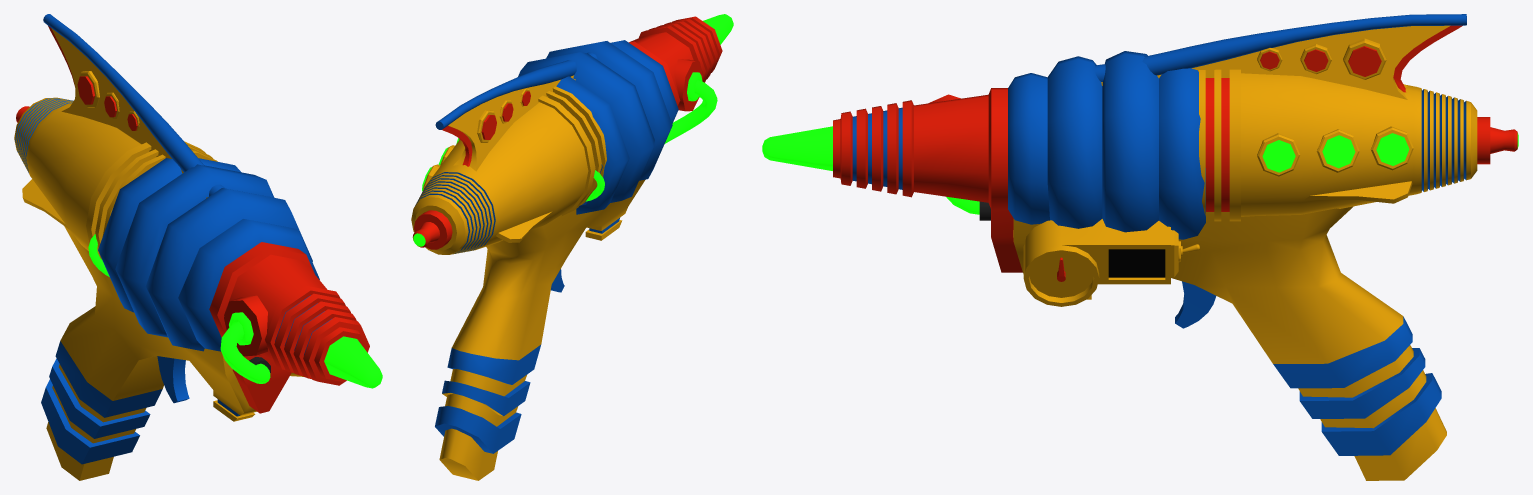
The model's file is Raygun.fbx.
3 renders of one model, left to right at view 1: azimuth 30°, elevation 25°; view 2: azimuth 150°, elevation 25°; view 3: azimuth 270°, elevation 25°, orthographic. The views are drawn at different scales.
Parts seen in each view (by area): view 1: Front, Handle, Back, FinTop, Fin, MainTube, FinTopButton, Bottom Fins; view 2: Handle, Back, Front, Fin, FinTop, MainTube, FinTopButton, Bottom Fins; view 3: Front, Handle, Back, Gauge, Fin, FinTop, FinTopButton, Bottom Fins.
Part boxes in pixels (x1,y1,x2,y2): Front: [98, 158, 382, 388]; Handle: [41, 226, 291, 480]; Back: [14, 97, 217, 259]; FinTop: [43, 14, 224, 196]; Fin: [48, 26, 207, 198]; MainTube: [220, 321, 270, 383]; FinTopButton: [77, 71, 139, 130]; Bottom Fins: [22, 179, 69, 229]; Handle: [435, 179, 645, 480]; Back: [411, 86, 606, 254]; Front: [518, 14, 733, 214]; Fin: [442, 75, 575, 171]; FinTop: [435, 52, 597, 129]; MainTube: [664, 80, 717, 143]; FinTopButton: [477, 88, 530, 142]; Bottom Fins: [496, 211, 552, 242]; Front: [762, 51, 1205, 239]; Handle: [991, 206, 1446, 480]; Back: [1199, 69, 1518, 221]; Gauge: [1023, 219, 1199, 306]; Fin: [1101, 25, 1462, 99]; FinTop: [1094, 14, 1466, 81]; FinTopButton: [1257, 38, 1386, 79]; Bottom Fins: [1304, 181, 1412, 203].
Bounding box in the file's own units: 125 × 300 × 447.
